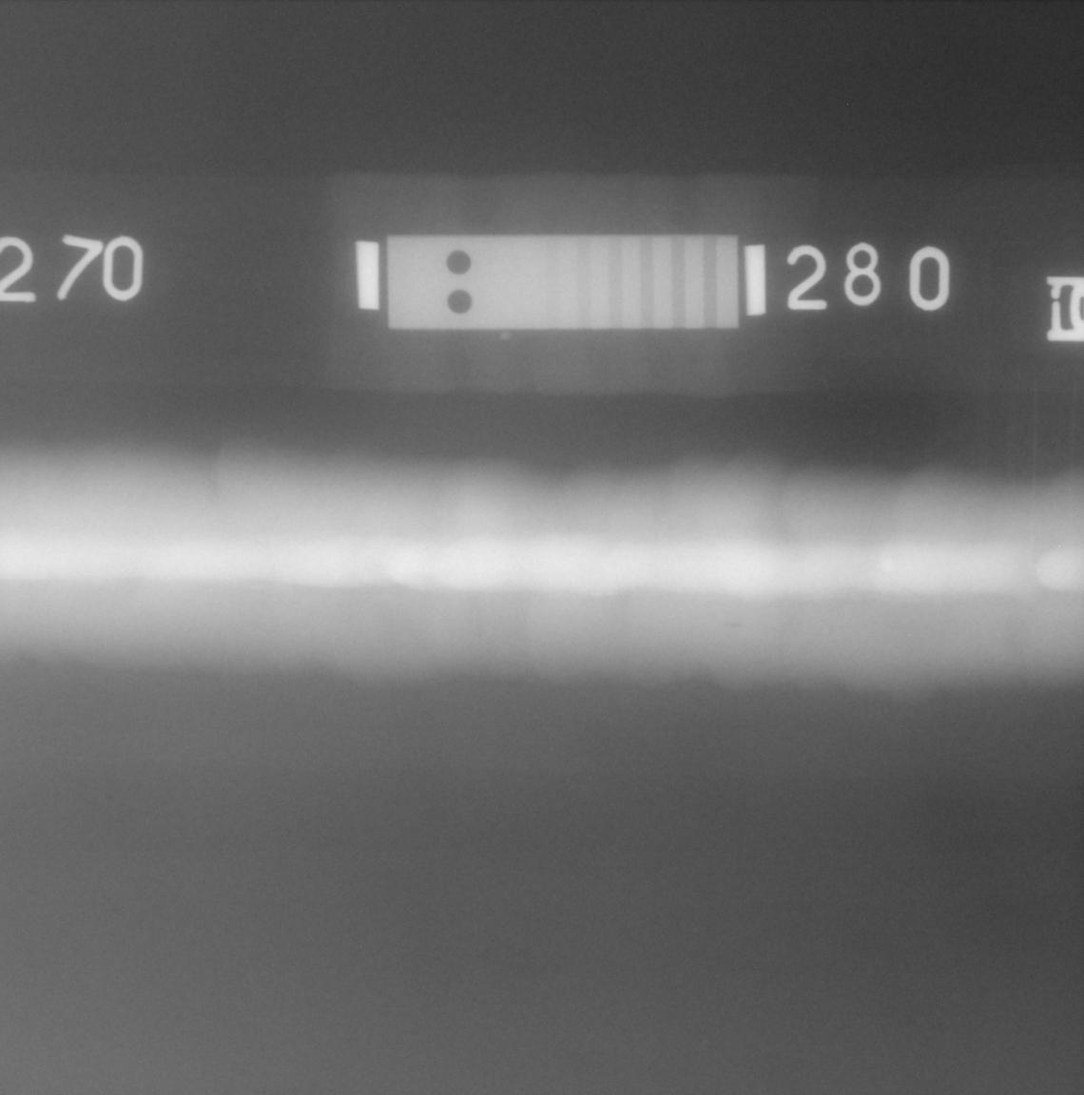Inclusion: (724, 623, 739, 627)
Reference Standard 2: (387, 235, 738, 329)
